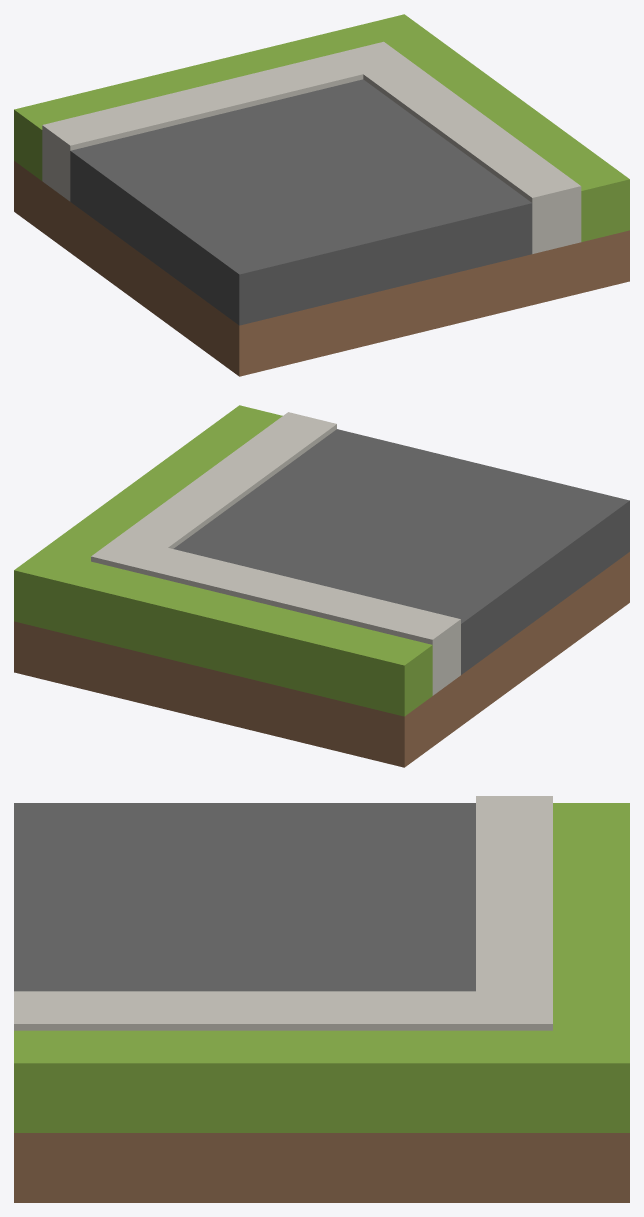
Rendered from lot-corner-low.obj.
3 renders of one model, top to bottom at view 1: azimuth 30°, elevation 25°; view 2: azimuth 150°, elevation 25°; view 3: azimuth 270°, elevation 25°, orthographic. The views are drawn at different scales.
Visible parts, largest first — view 1: lot-corner-low_Cube.037; view 2: lot-corner-low_Cube.037; view 3: lot-corner-low_Cube.037.
Boxes of the visible parts, left/top/right/bottom form: lot-corner-low_Cube.037: left=14, top=14, right=629, bottom=376; lot-corner-low_Cube.037: left=14, top=405, right=629, bottom=767; lot-corner-low_Cube.037: left=14, top=796, right=629, bottom=1202.
Size of the model in its own units: 8 by 2.1 by 8.
Materials: 1 (1 with a texture image).
